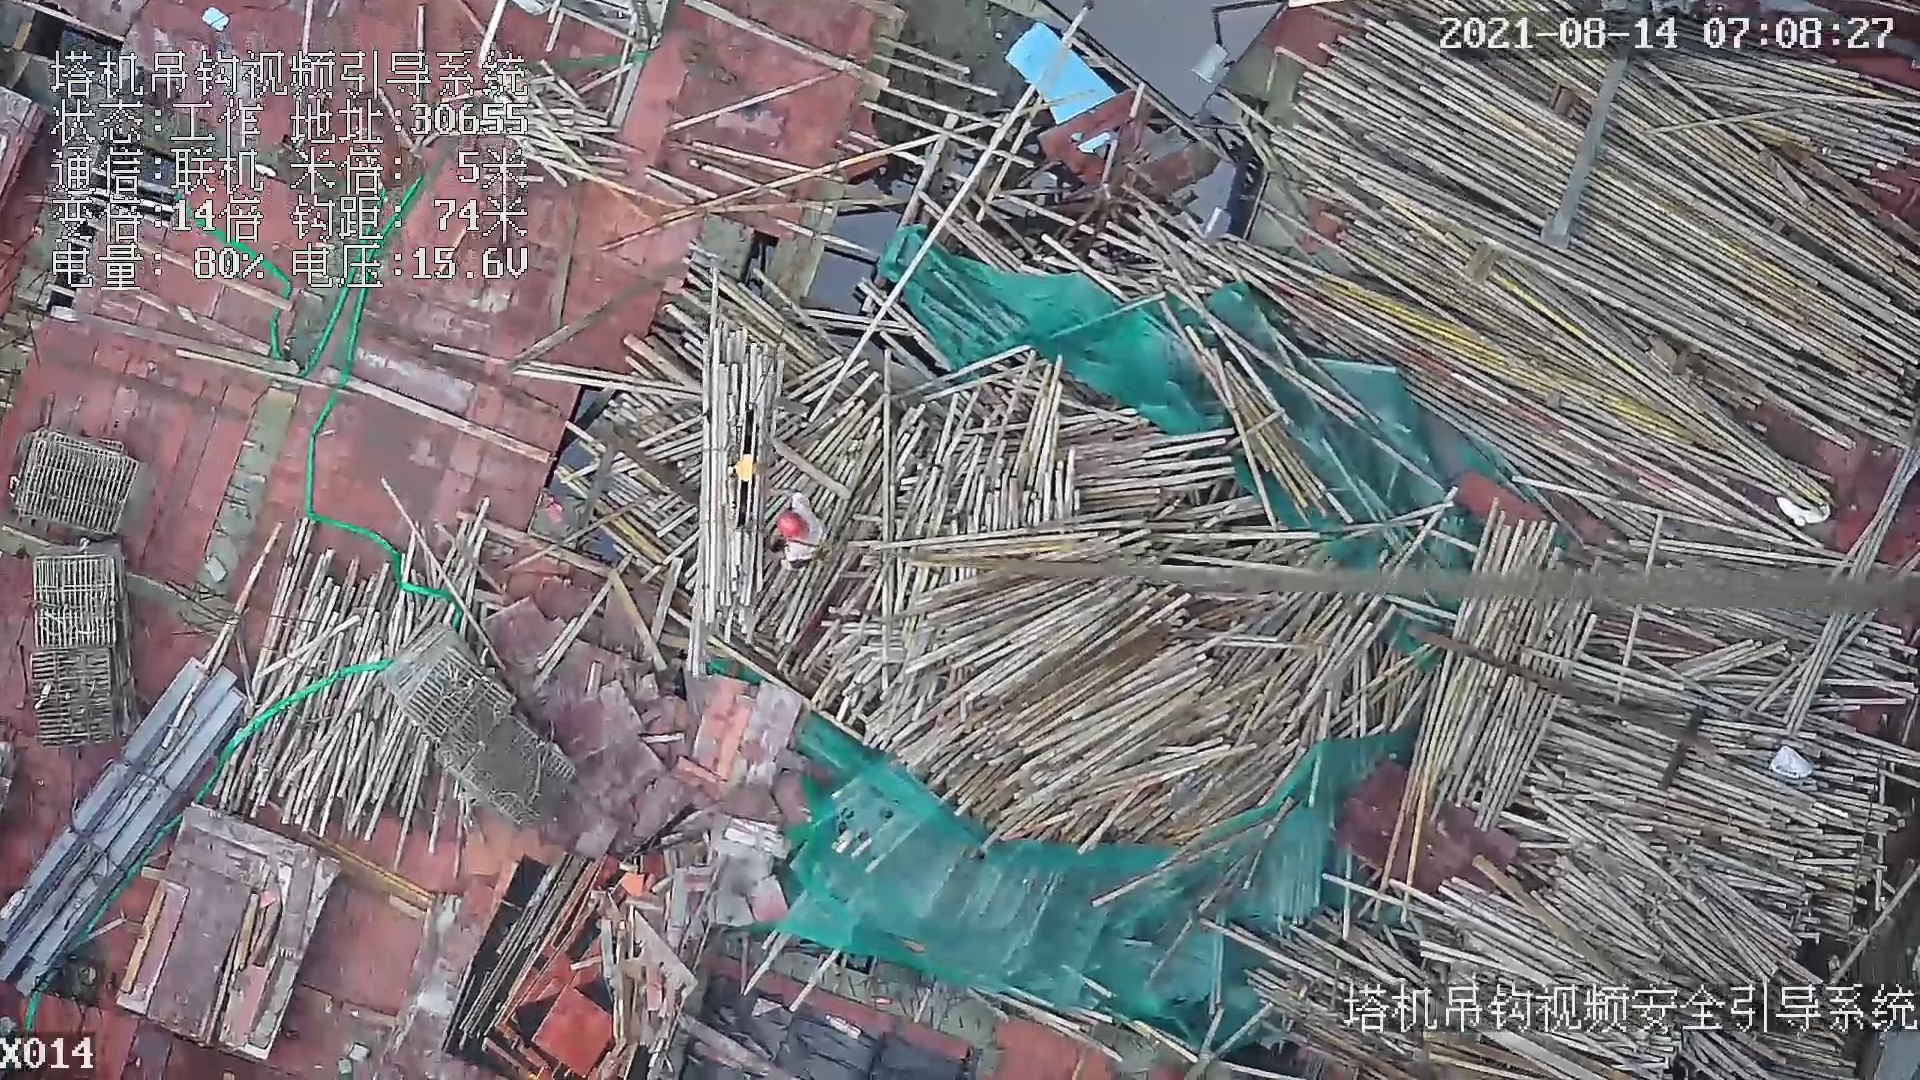helmet: (778, 512, 805, 542)
hook: (727, 397, 769, 537)
person: (778, 494, 828, 565)
